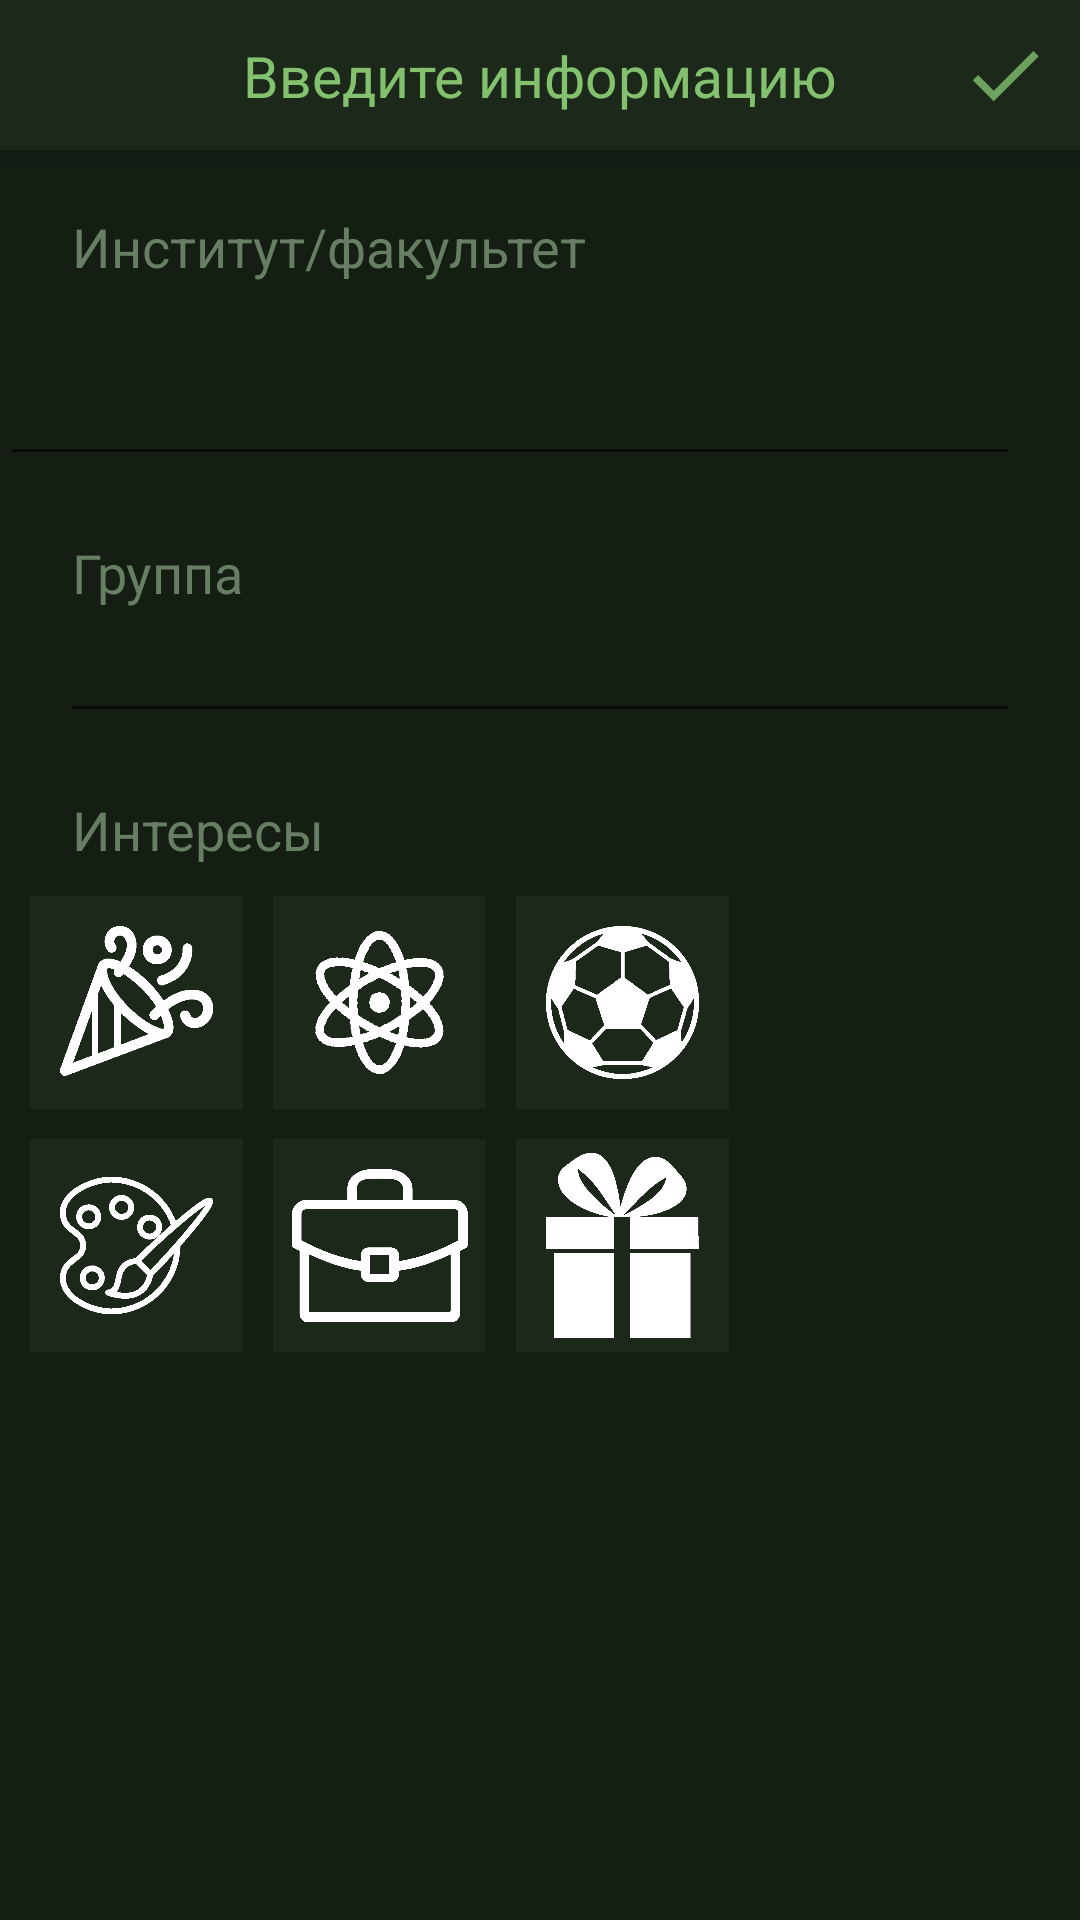

Icon click points for this 1080x1920 phone screenshot, format [x,y]:
art: [136,1245]
check: [1006,76]
party: [136,1002]
science: [379,1002]
sport: [622,1002]
work: [379,1245]
